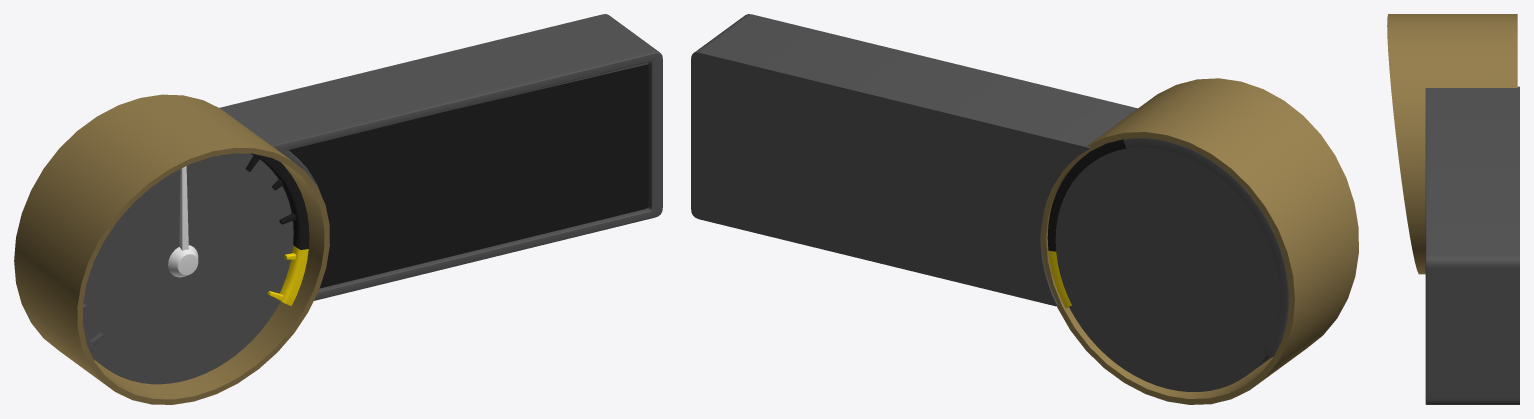
Rendered from Rpm.FBX.
3 renders of one model, left to right at view 1: azimuth 30°, elevation 25°; view 2: azimuth 150°, elevation 25°; view 3: azimuth 270°, elevation 25°, orthographic. The views are drawn at different scales.
Visible parts, largest first — view 1: RpmFrame2, RpmFrame, Cylinder, Pointer; view 2: RpmFrame2, Cylinder, RpmFrame; view 3: RpmFrame2, RpmFrame.
Boxes of the visible parts, <box> form: RpmFrame2: <box>219,14,662,300</box>; RpmFrame: <box>14,94,329,404</box>; Cylinder: <box>83,153,293,384</box>; Pointer: <box>168,166,198,277</box>; RpmFrame2: <box>691,14,1137,306</box>; Cylinder: <box>1055,147,1279,391</box>; RpmFrame: <box>1041,78,1358,404</box>; RpmFrame2: <box>1425,86,1519,404</box>; RpmFrame: <box>1387,14,1517,274</box>.
Bounding box in the file's own units: 1244 × 525 × 267.
